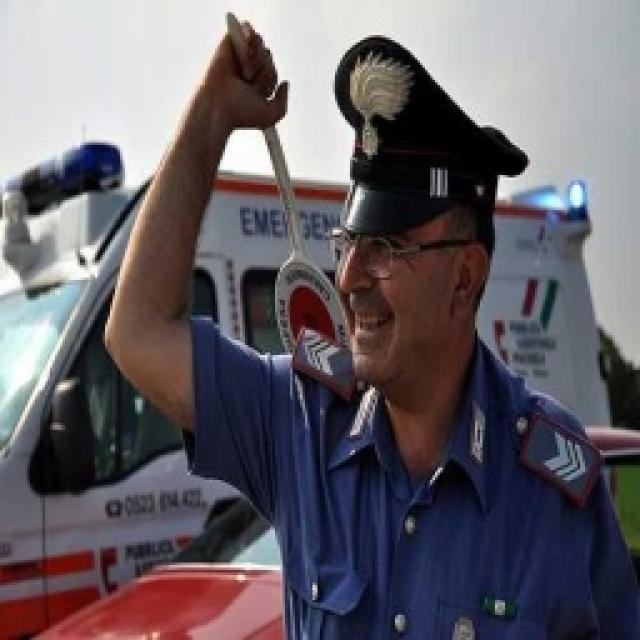ambulance: (15, 5, 360, 640), (477, 179, 640, 562)
